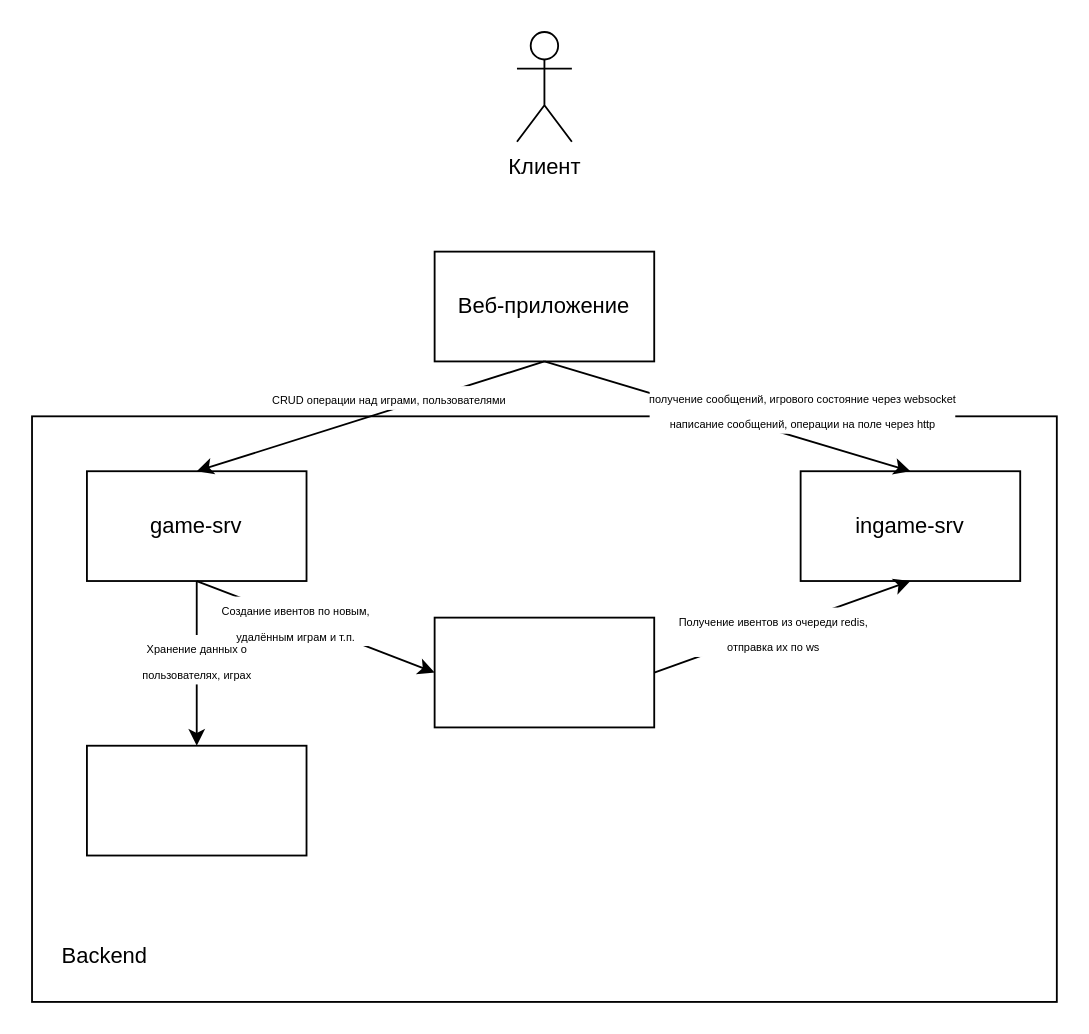
The diagram is 1089 pixels wide and 1034 high, and some of its shapes have lost their labels. The centre of each missing label's shape, as x and y in pixels:
"PostgreSQL" goes at point (196, 800).
"Redis" goes at point (543, 671).
